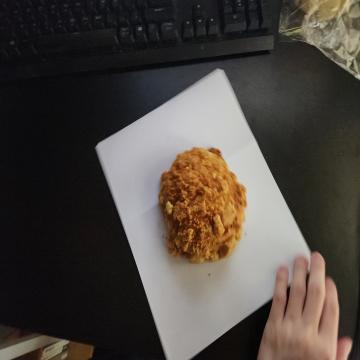soboru_bread: (160, 146, 248, 268)
